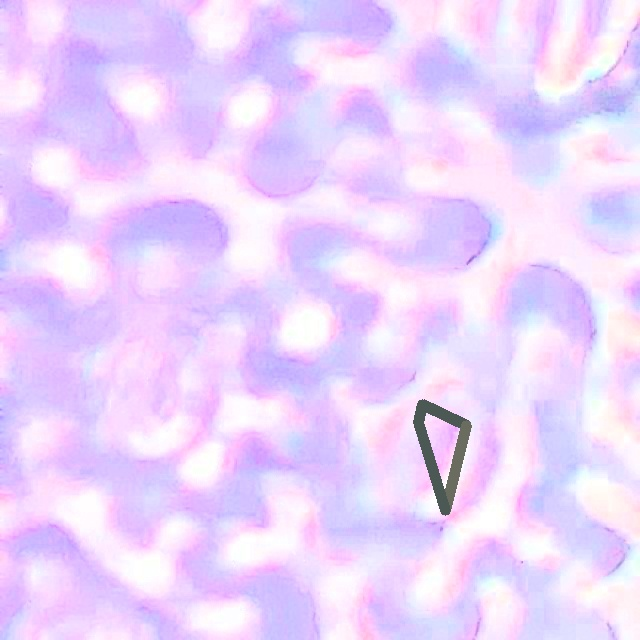open: (414, 400, 471, 514)
